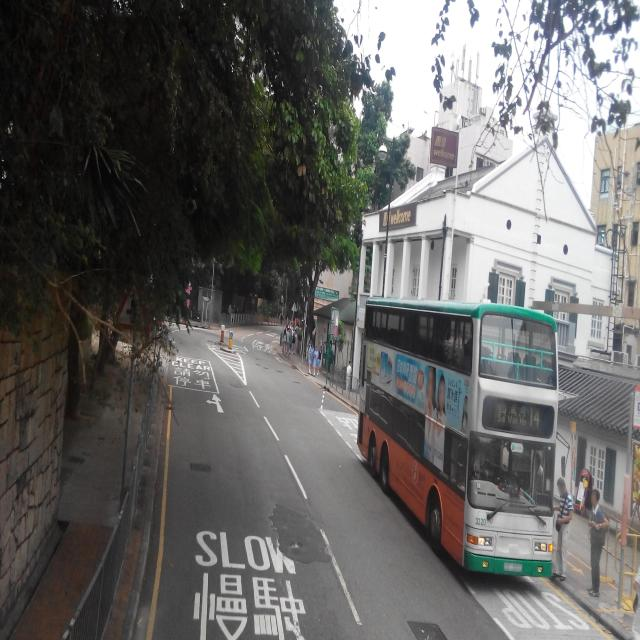Good: (188, 460, 212, 474)
